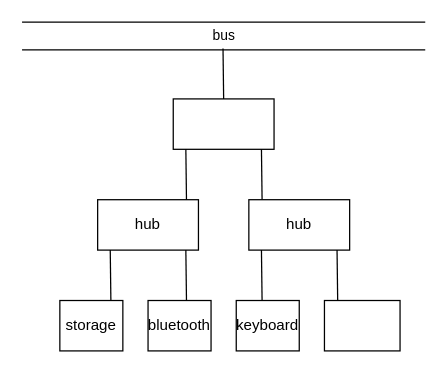
This 447x373 diagram has some shape labels left out. Each missing label, with the centre of its shape:
"mouse" goes at point (361, 325).
"USB controller" goes at point (223, 123).
